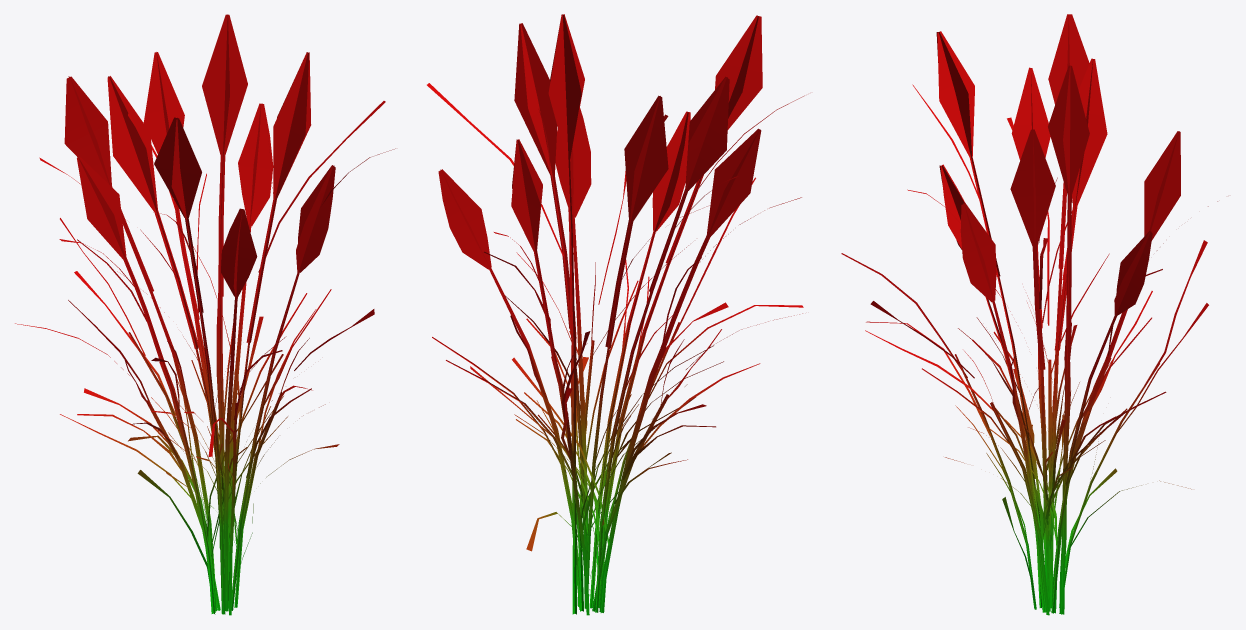
File: Rough Meadow Grass_LOD2_Var3_skFjJ.fbx
The picture shows the model from 3 angles, left to right: view 1: azimuth 30°, elevation 25°; view 2: azimuth 150°, elevation 25°; view 3: azimuth 270°, elevation 25°; orthographic projection. The views are drawn at different scales.
Parts seen in each view (by area): view 1: _e451_Var3_LOD2; view 2: _e451_Var3_LOD2; view 3: _e451_Var3_LOD2.
Part boxes in pixels (bbox=[...]): _e451_Var3_LOD2: bbox=[15, 14, 395, 615]; _e451_Var3_LOD2: bbox=[427, 14, 804, 615]; _e451_Var3_LOD2: bbox=[841, 14, 1217, 615].
Size of the model in its own units: 85.33 by 128 by 82.2.
